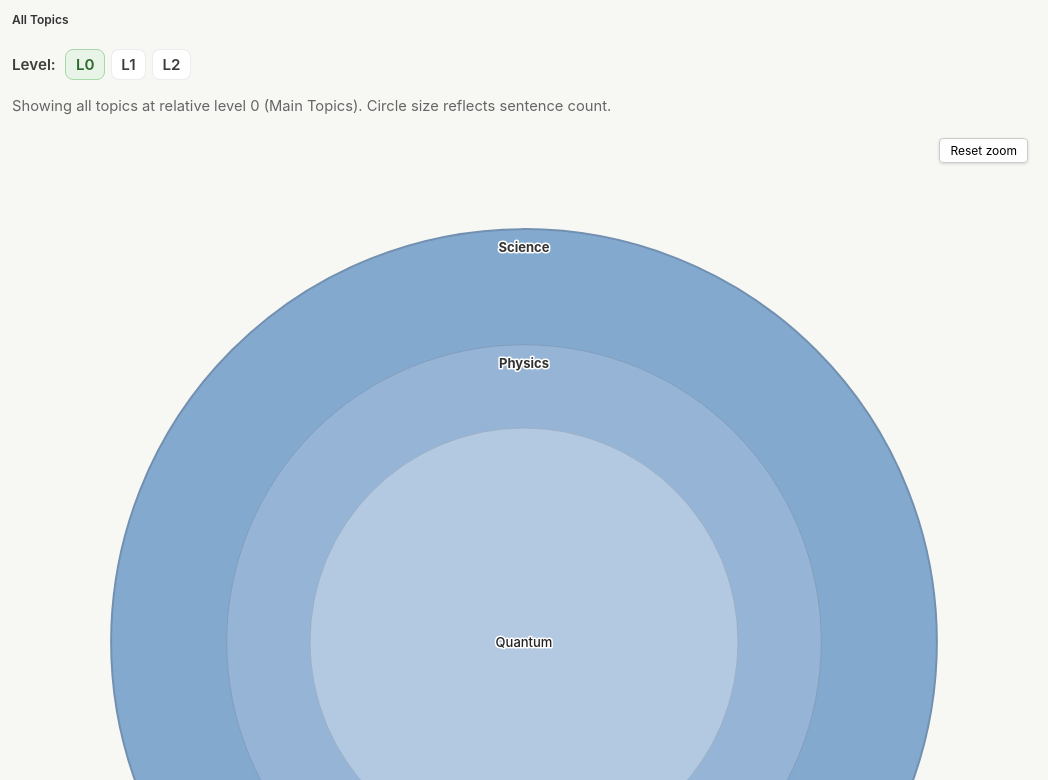
Test case: CircularPackingChart component › updates the subtitle when the selected level changes
Click the button "L1" at (128, 65), box [111,49,146,80]
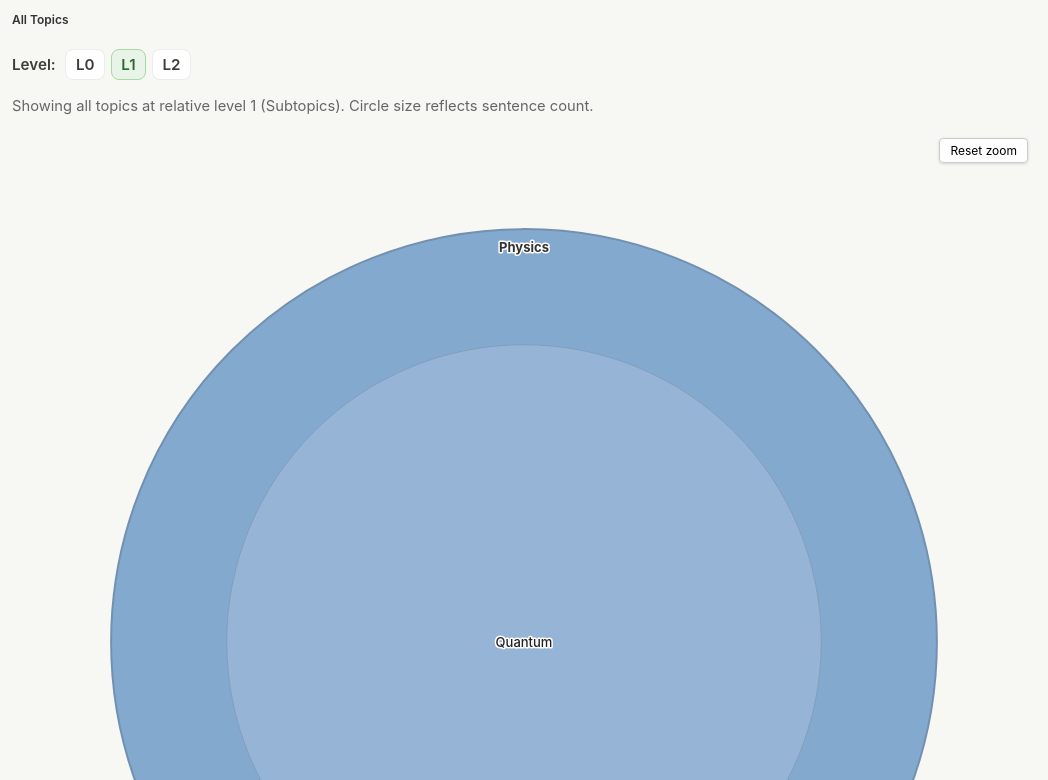
Check: the text "Showing all topics at relative level 1 (Subtopics). Circle size reflects sentence count." is shown, box [12,97,594,115]
